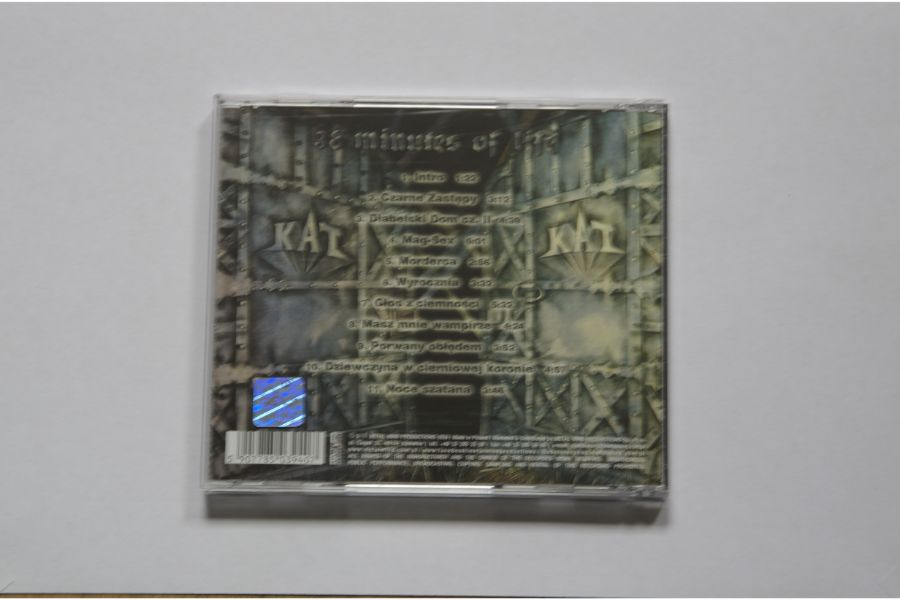album: (203, 94, 671, 504)
